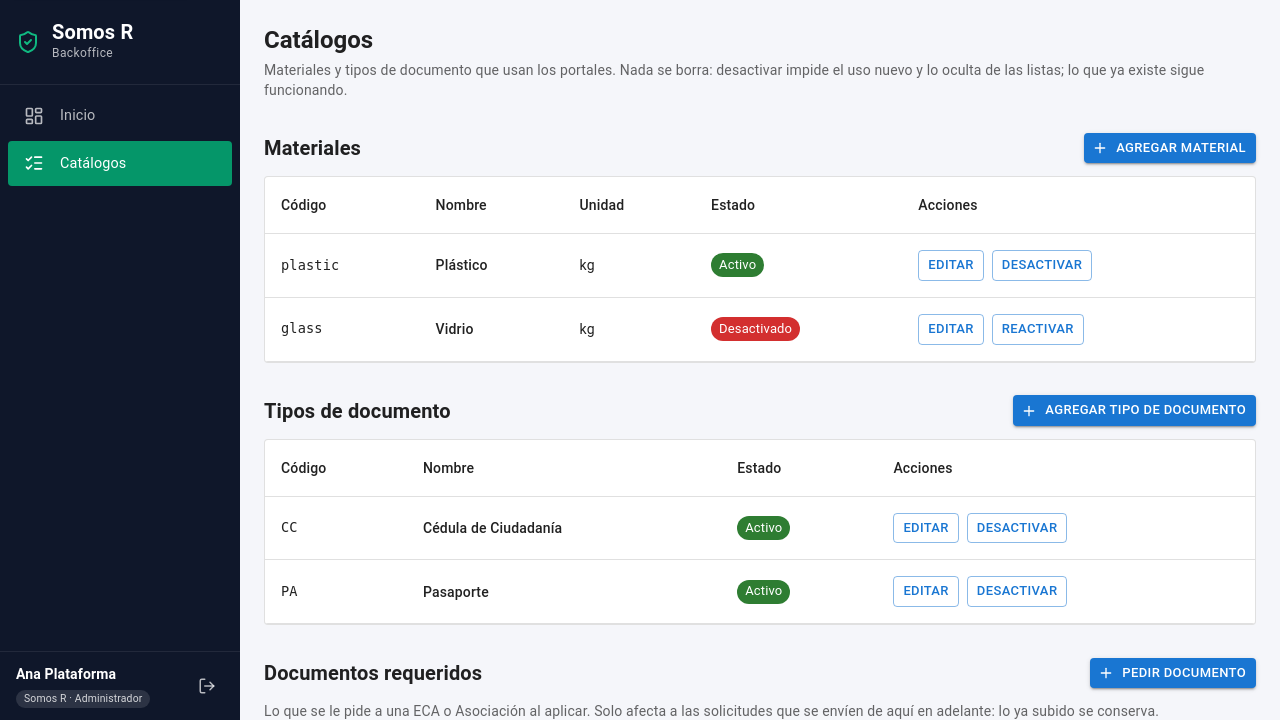
Test: required documents section › does not send a code in the wrong format
The image size is (1280, 720).
Click the button "Pedir documento".
click(1173, 673)  # box x1=1090 y1=658 x2=1256 y2=688
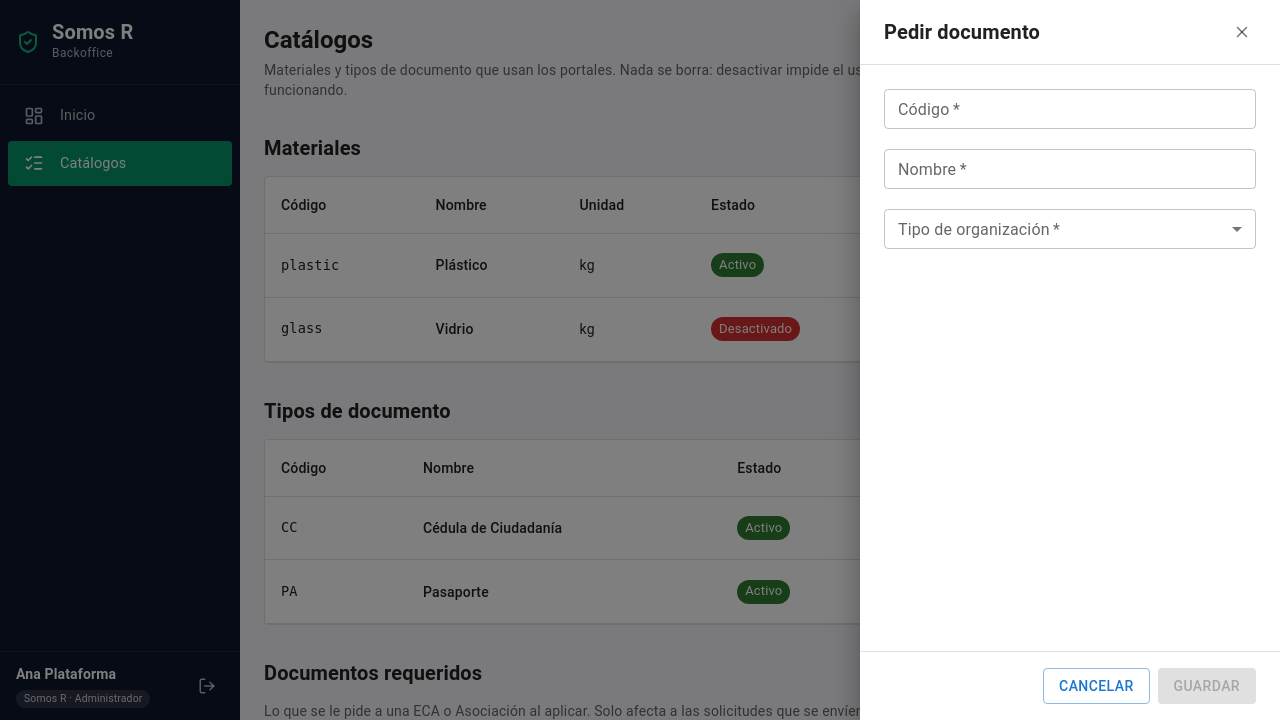
Type "RUT" into the field labelled "Código *".
click(1070, 109); type("RUT")  # box x1=884 y1=89 x2=1256 y2=129
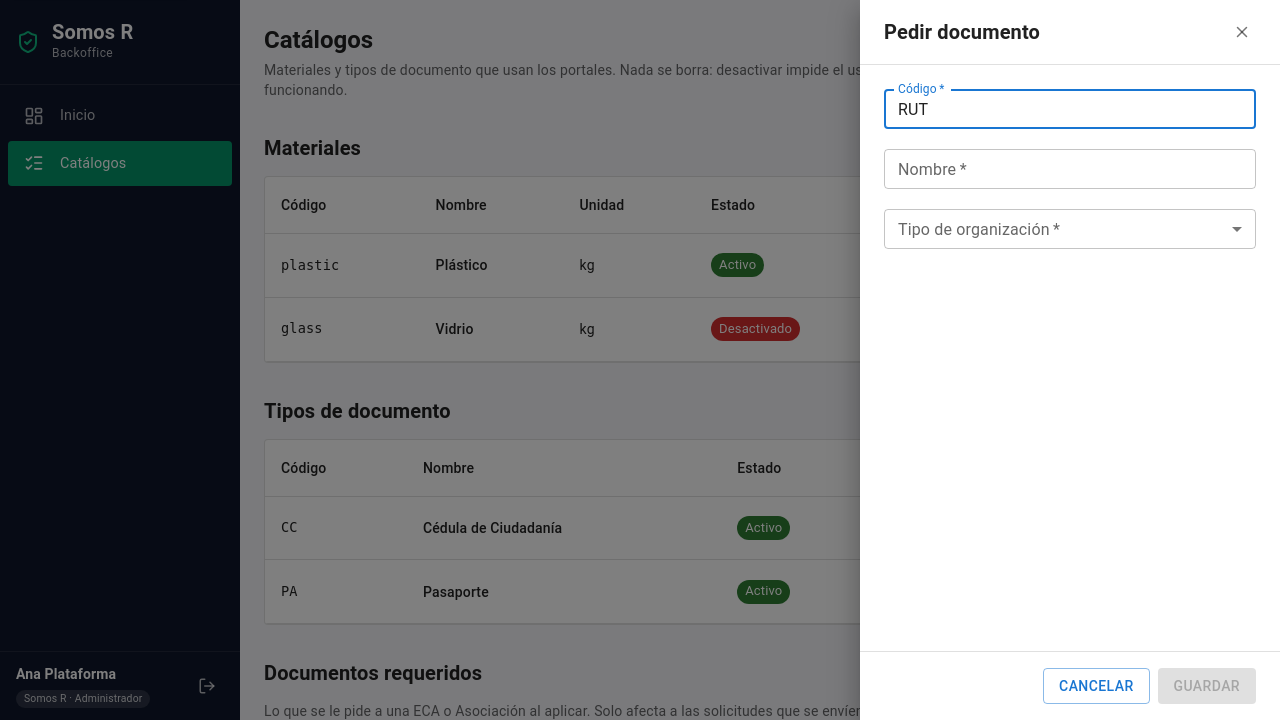
Type "RUT" into the field labelled "Nombre *".
click(1070, 169); type("RUT")  # box x1=884 y1=149 x2=1256 y2=189
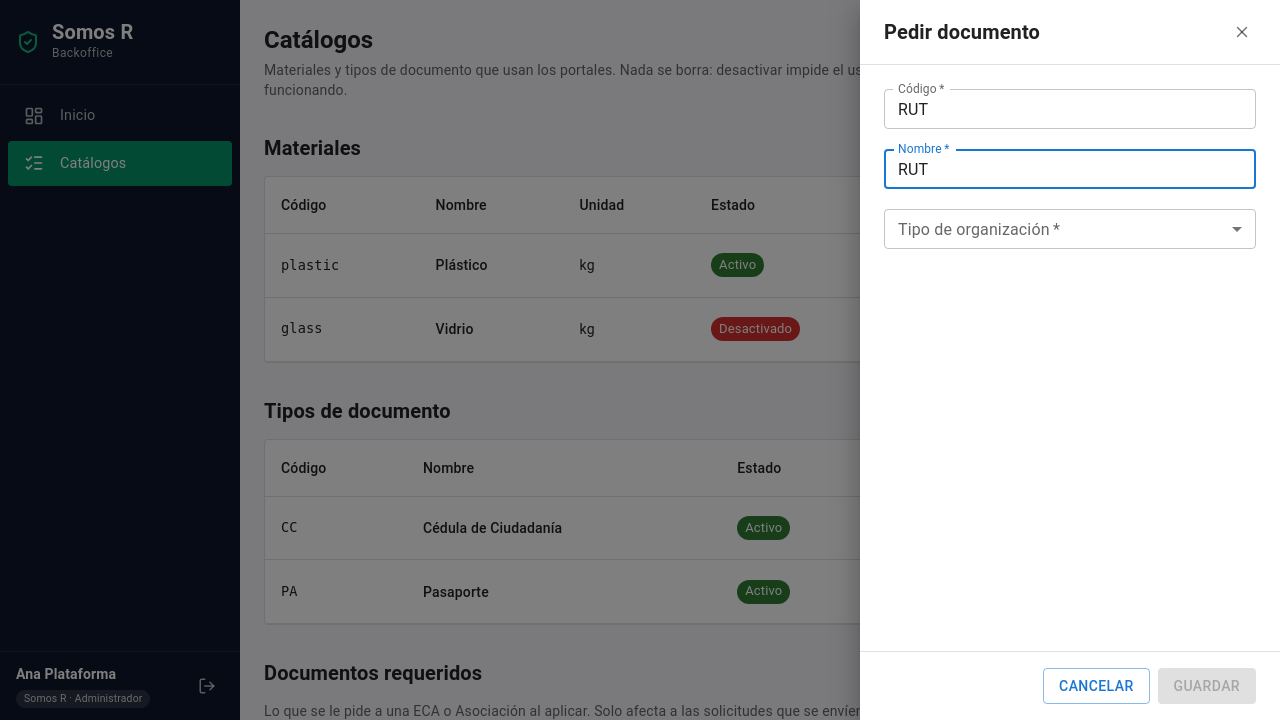
Click the dropdown named "Tipo de organización".
click(1070, 229)  # box x1=884 y1=209 x2=1256 y2=249
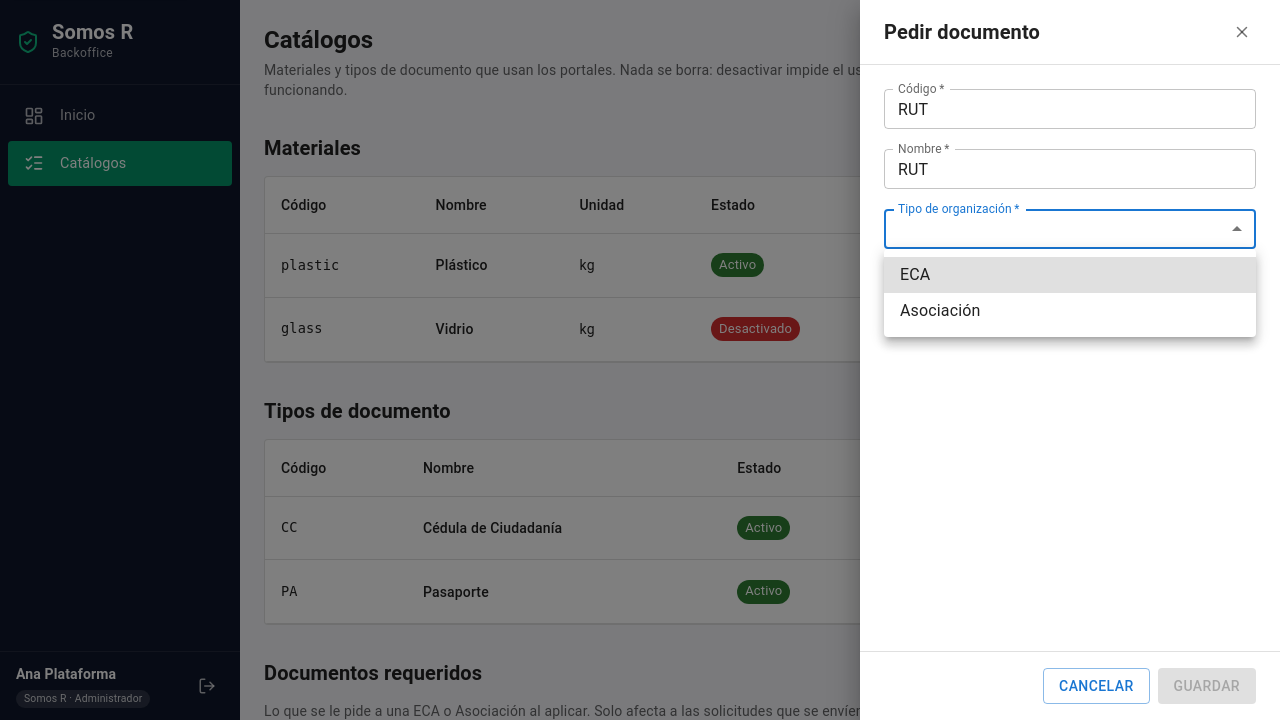
Click the option "Asociación".
click(940, 310)  # box x1=900 y1=301 x2=980 y2=320
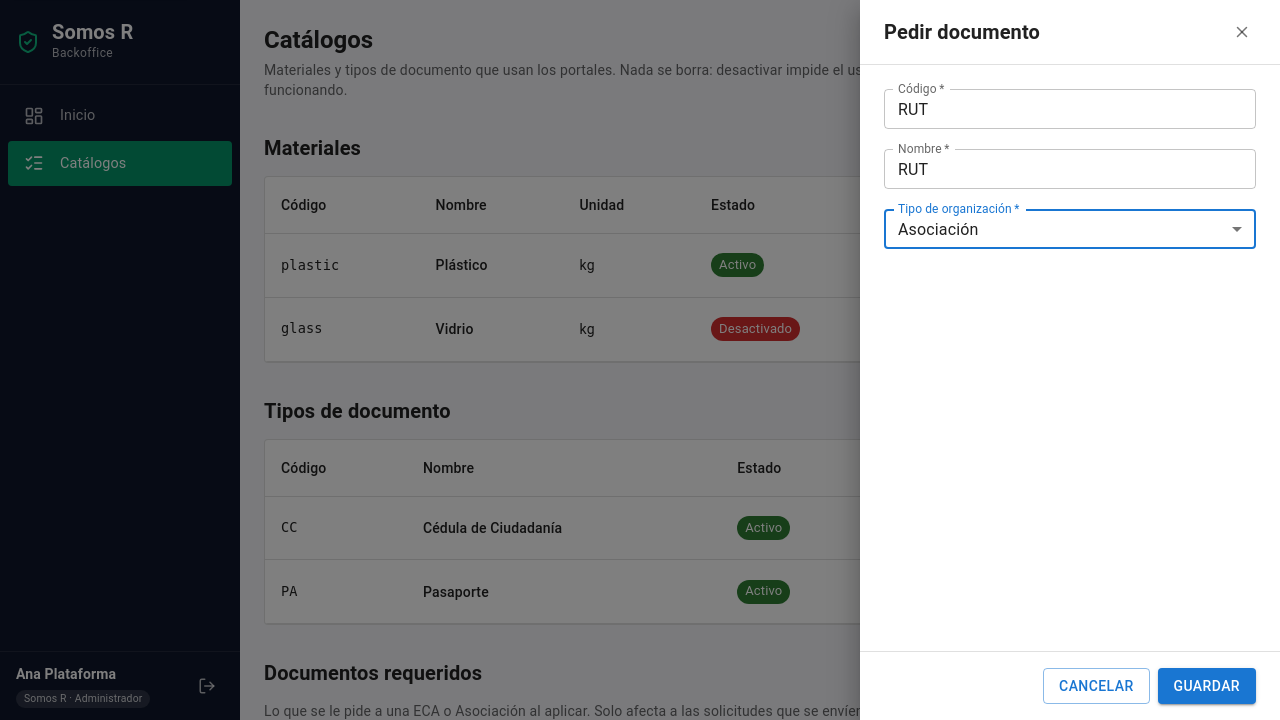
Click the button "Guardar".
click(1207, 686)  # box x1=1158 y1=668 x2=1256 y2=704
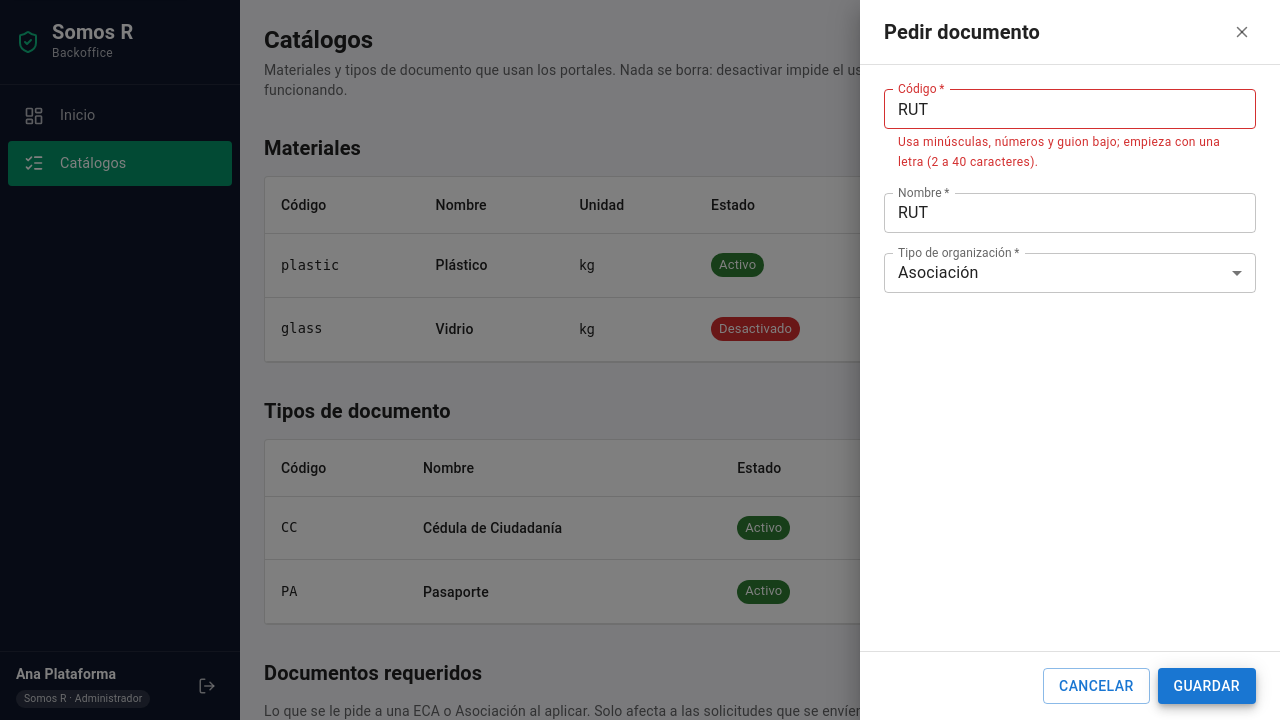
Now the text "Usa minúsculas, números y guion bajo; empieza con una letra (2 a 40 caracteres)." is shown, box x1=898 y1=133 x2=1242 y2=173
